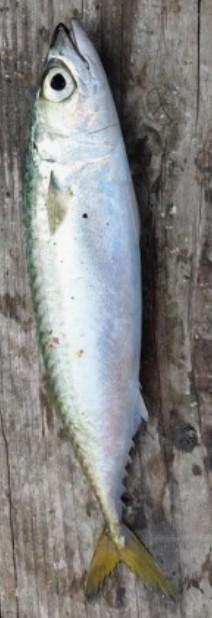fish: (25, 18, 173, 595)
